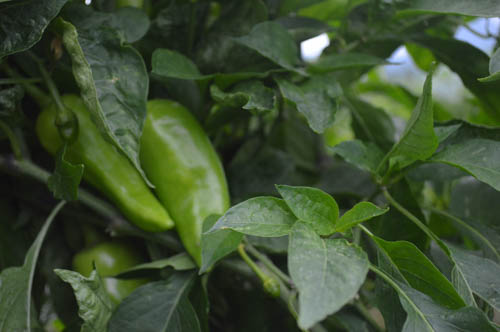ChiliPepper: (35, 95, 169, 232), (135, 95, 235, 267)
